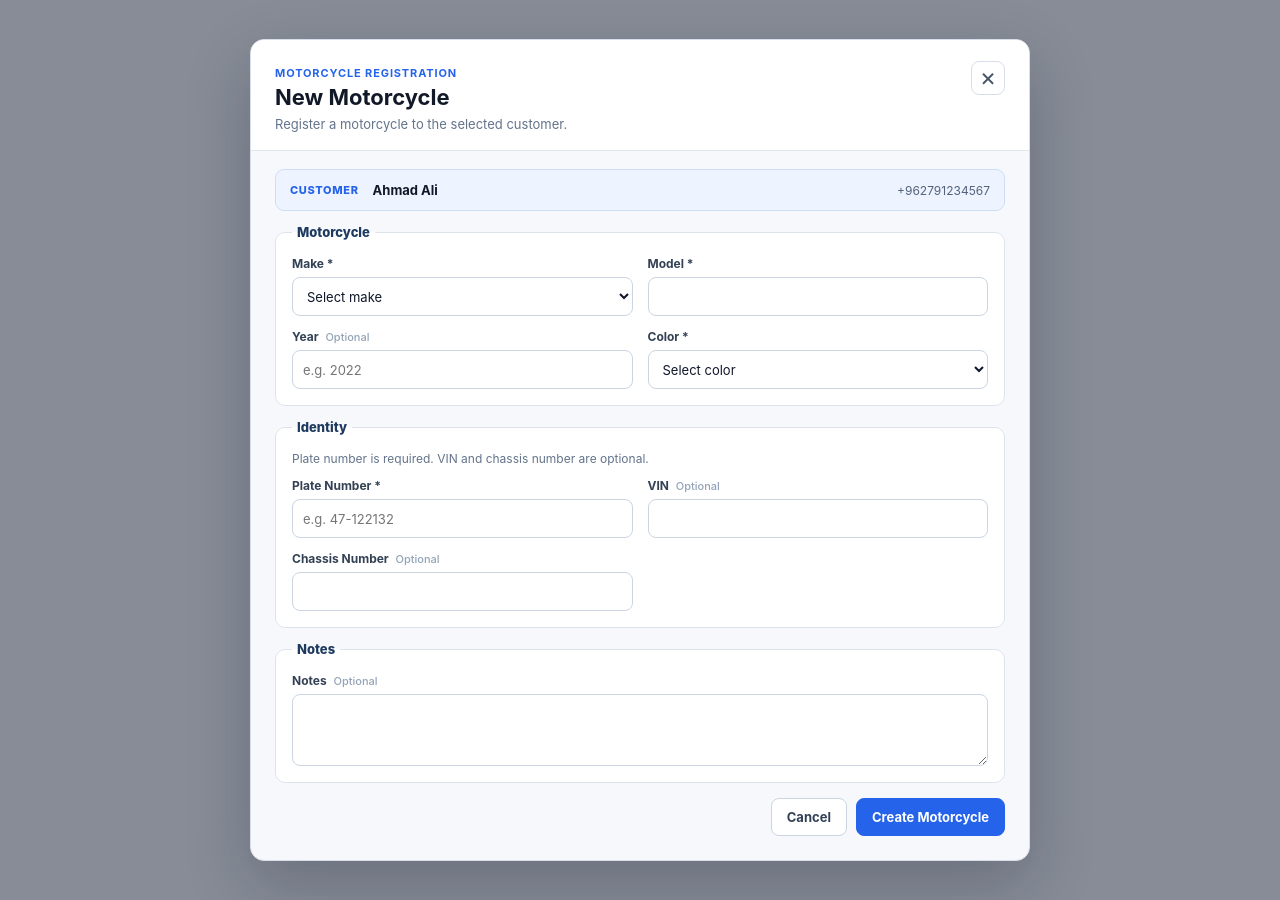
NewMotorcycleDialog › rejects malformed plate -123 and highlights the field
Select "Honda" in the dropdown labelled "Make" at (462, 297), box left=292, top=277, right=632, bottom=316
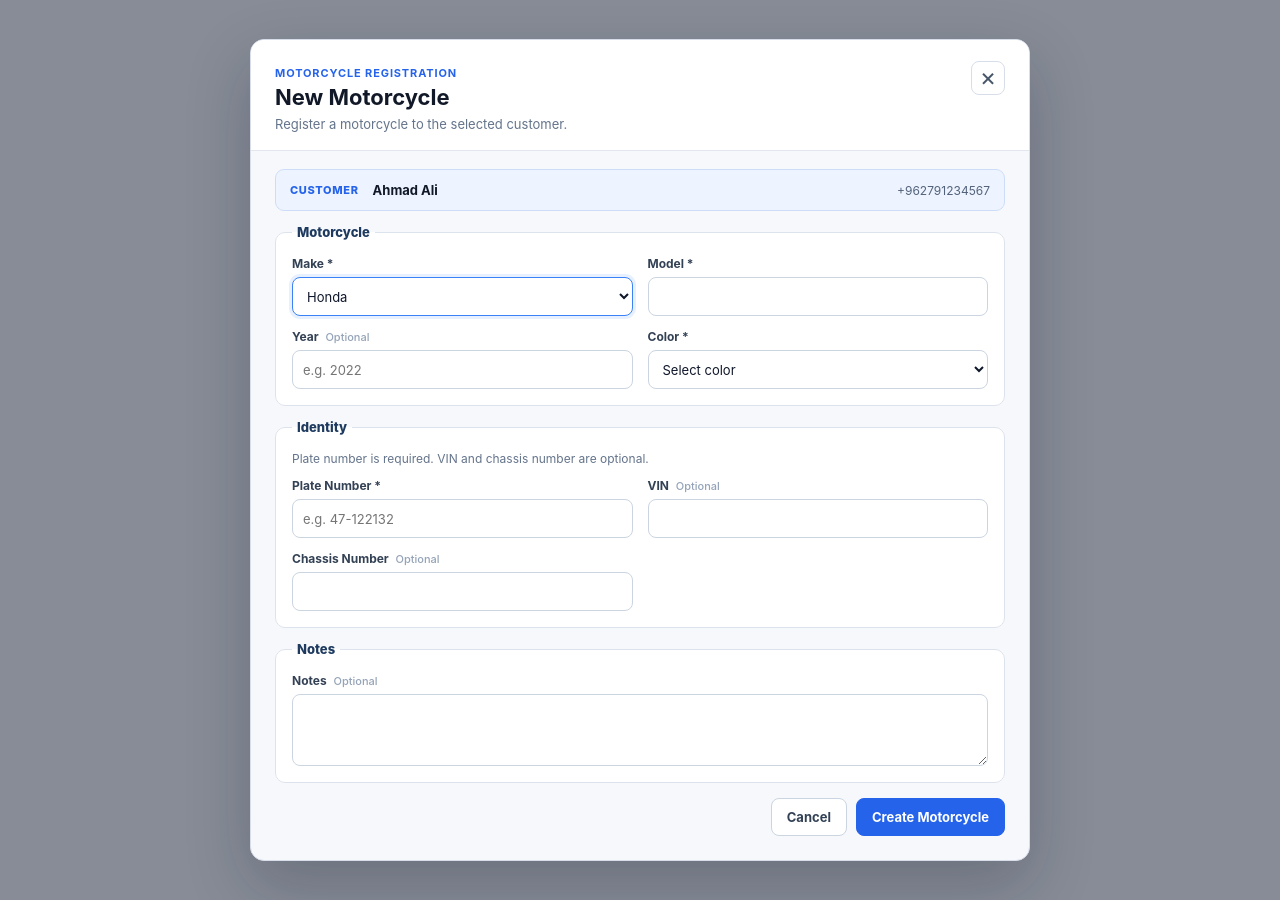
Type "CB150R" into the field labelled "Model" at (818, 297), box left=648, top=277, right=988, bottom=316
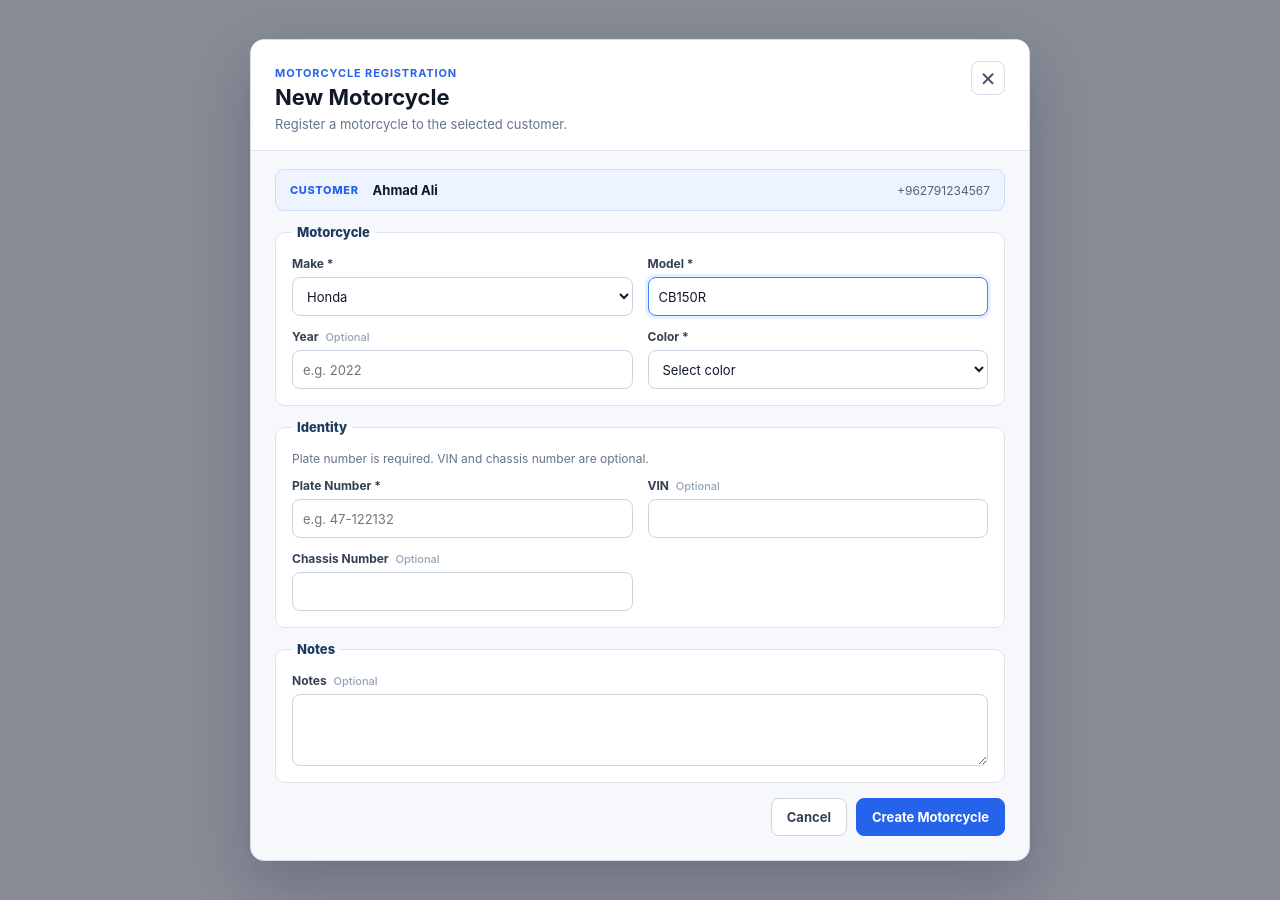
Select "Black" in the dropdown labelled "Color" at (818, 370), box left=648, top=350, right=988, bottom=389
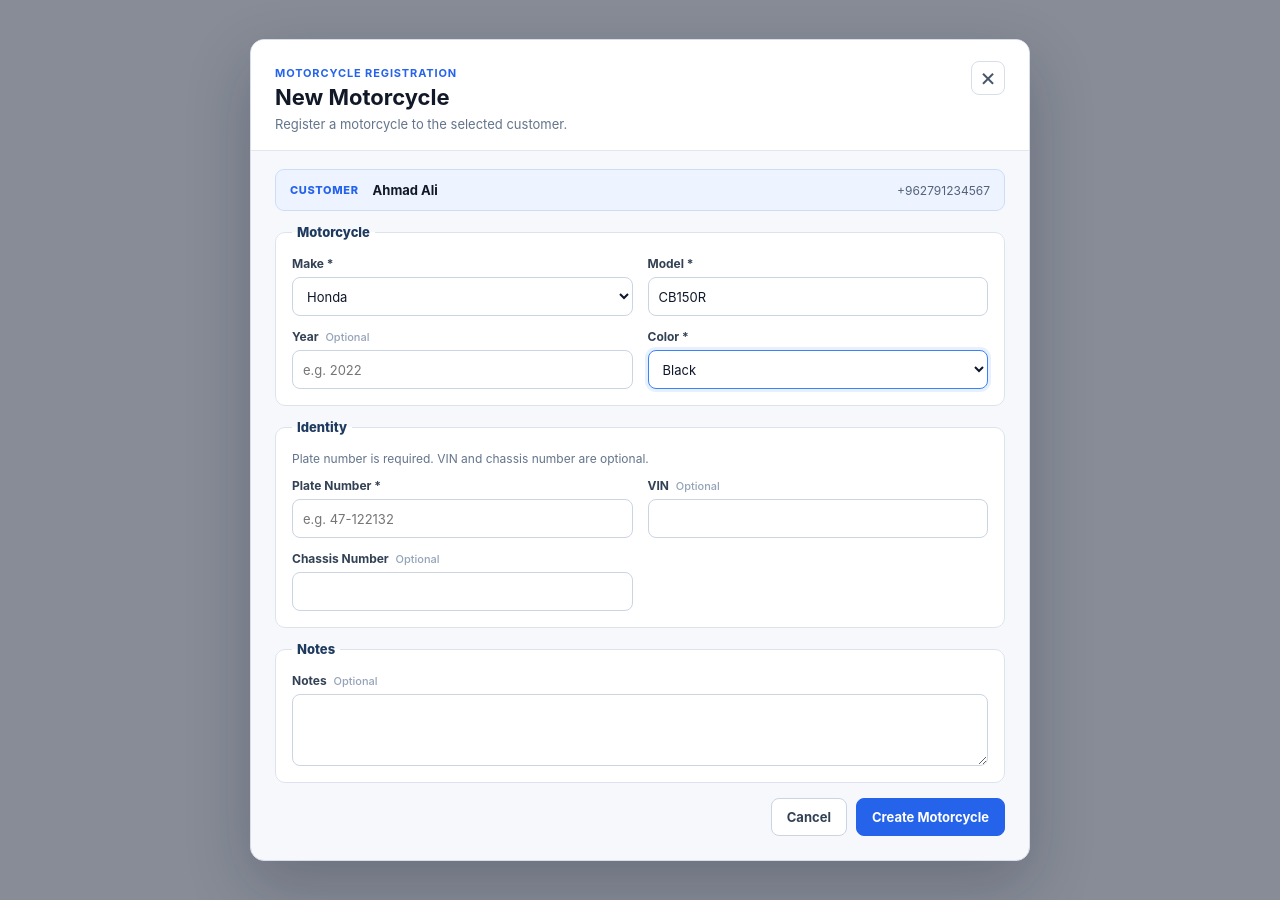
Type "29-12345" into the field labelled "Plate Number" at (462, 519), box left=292, top=499, right=632, bottom=538
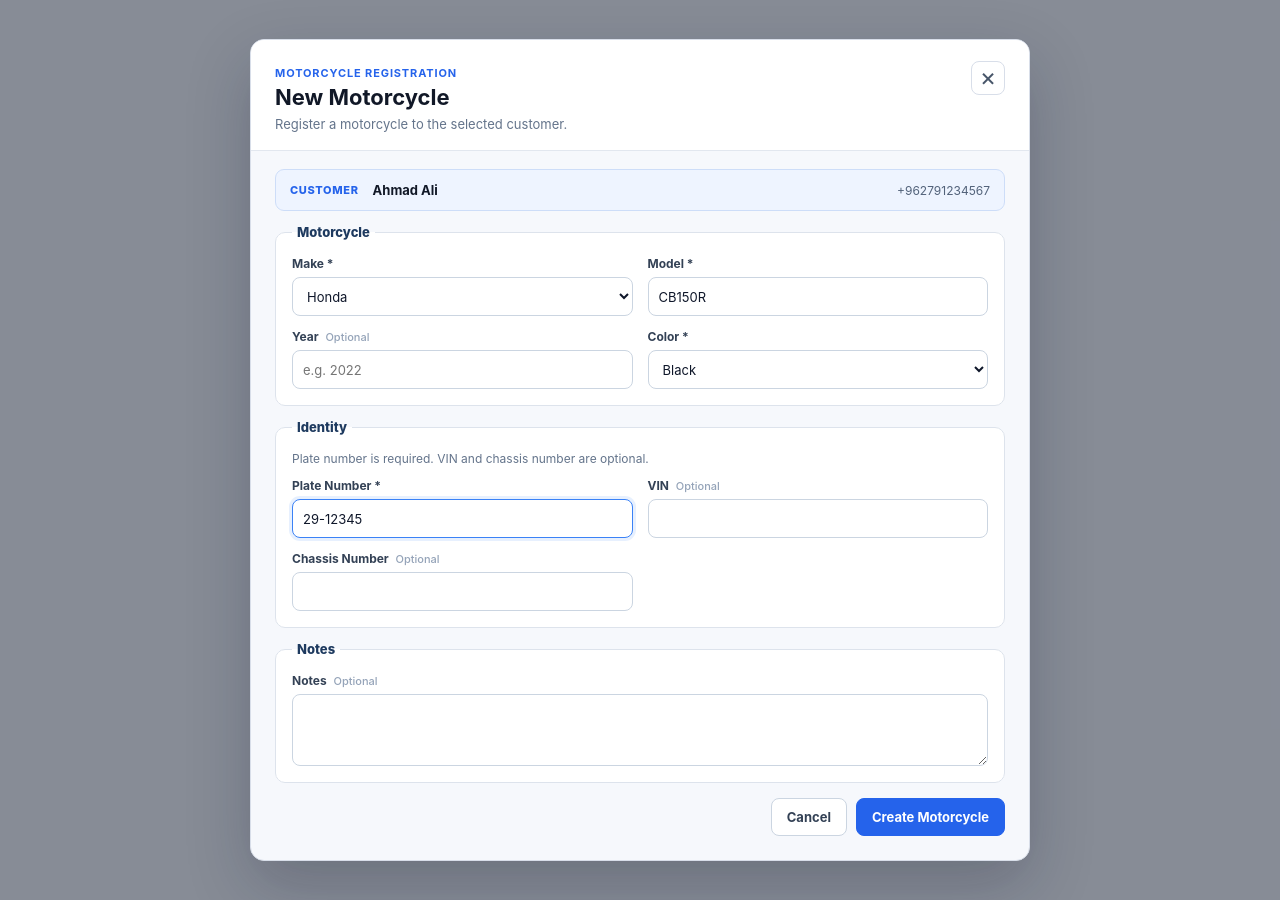
Replace the text in the field labelled "Plate Number" with "-123" at (462, 519), box left=292, top=499, right=632, bottom=538
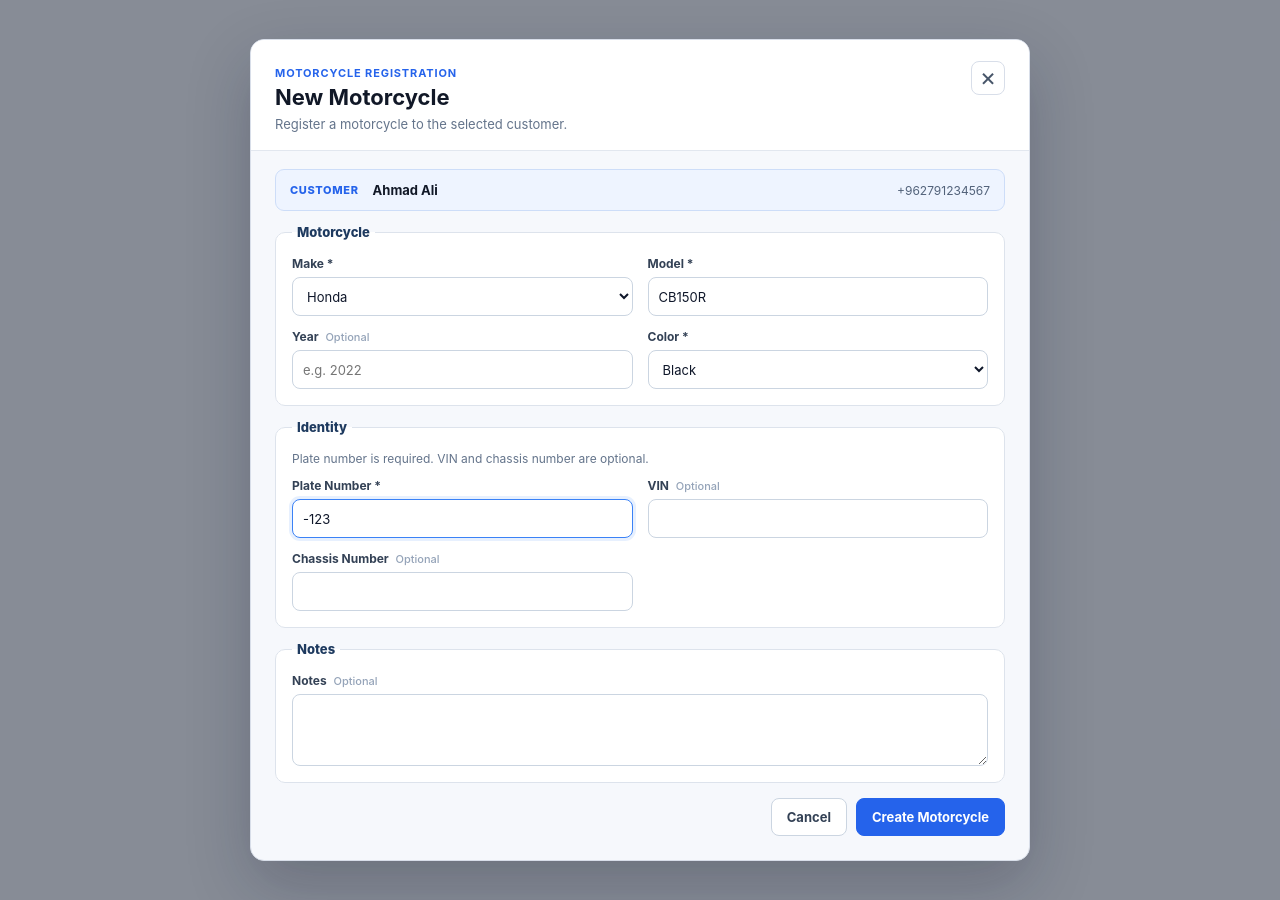
Click the button "Create Motorcycle" at (930, 817), box left=856, top=798, right=1005, bottom=836
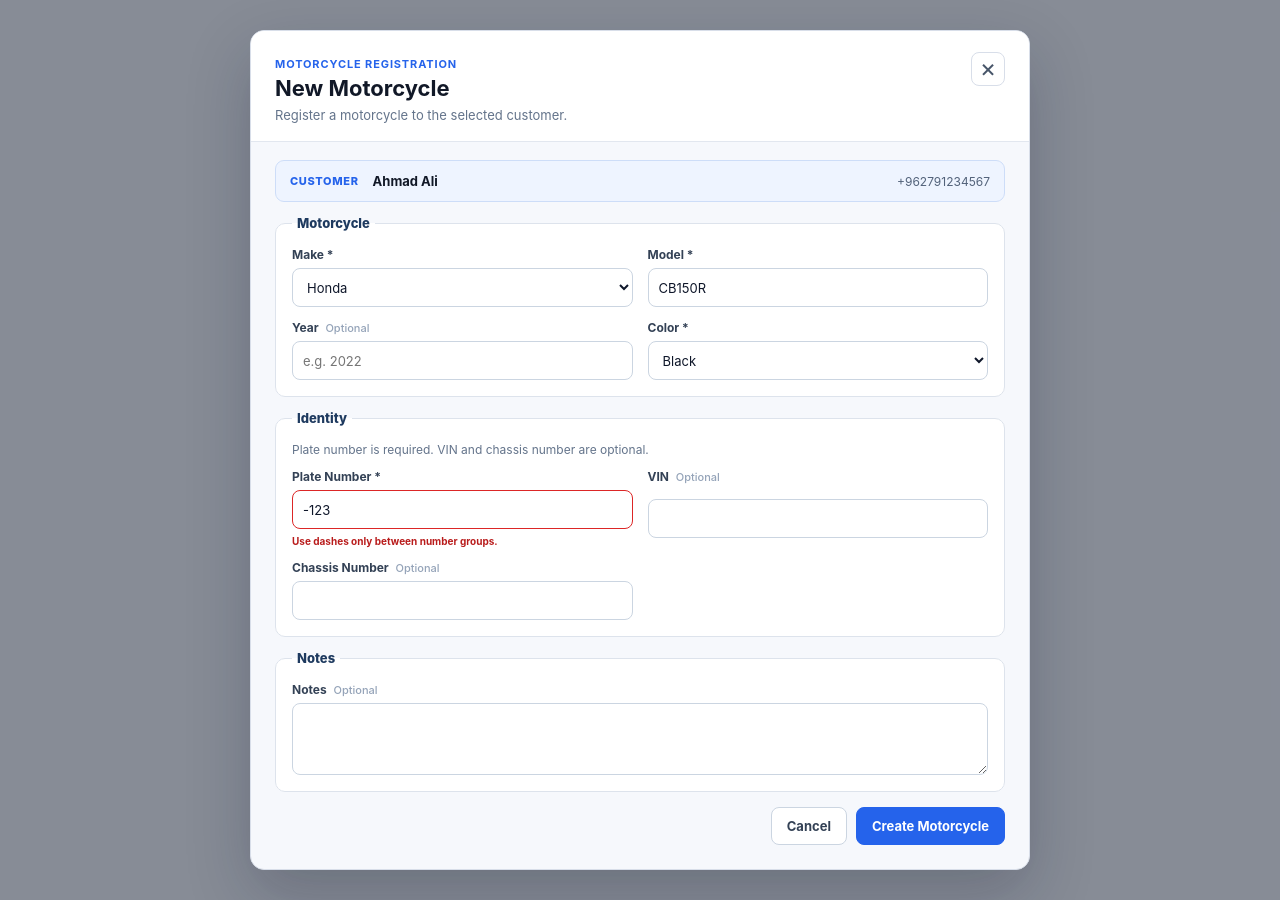
Expected: the text "Use dashes only between number groups." is shown, left=292, top=535, right=498, bottom=547
